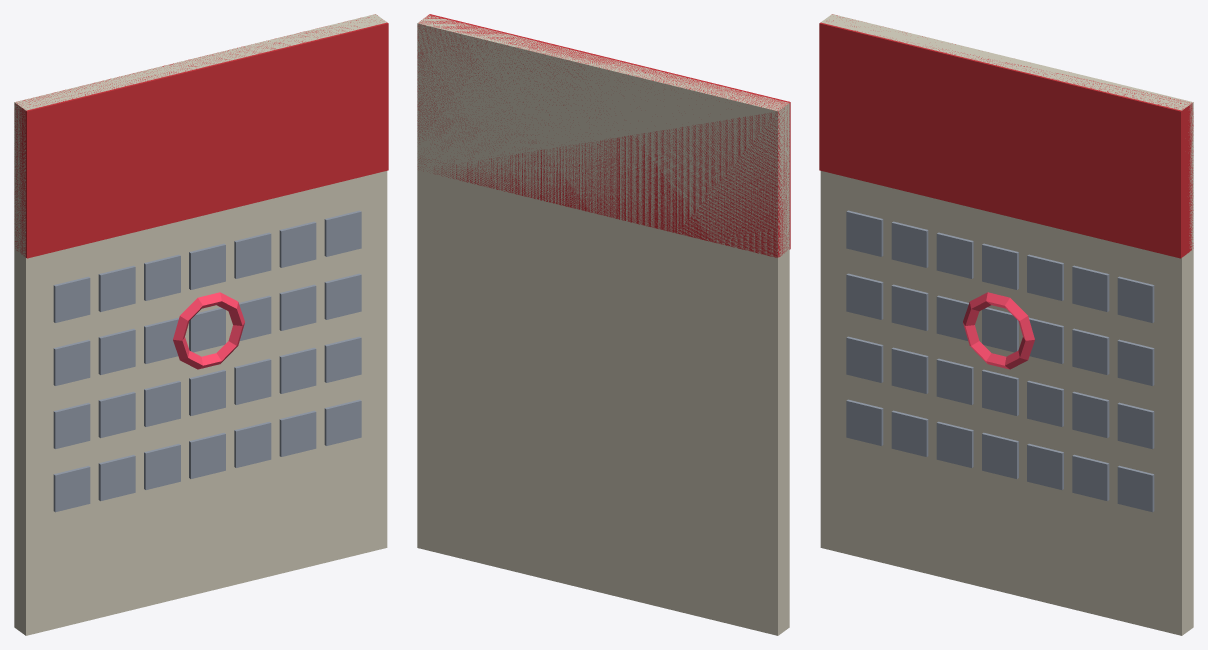
The model's file is wall_calendar.glb.
3 renders of one model, left to right at view 1: azimuth 30°, elevation 25°; view 2: azimuth 150°, elevation 25°; view 3: azimuth 330°, elevation 25°, orthographic.
Visible parts, largest first — view 1: calendar_paper, calendar_calendar_red, calendar_calendar_grid, calendar_calendar_ring; view 2: calendar_paper, calendar_calendar_red; view 3: calendar_paper, calendar_calendar_red, calendar_calendar_grid, calendar_calendar_ring.
Boxes of the visible parts, x1,y1,x2,y2 form: calendar_paper: (14,14,387,635); calendar_calendar_red: (14,14,388,258); calendar_calendar_grid: (53,210,361,512); calendar_calendar_ring: (173,292,244,369); calendar_paper: (417,15,789,635); calendar_calendar_red: (417,14,790,257); calendar_paper: (820,14,1193,635); calendar_calendar_red: (819,14,1193,258); calendar_calendar_grid: (846,210,1154,512); calendar_calendar_ring: (963,292,1034,369).
Bounding box in the file's own units: 0.36 × 0.5 × 0.03.
